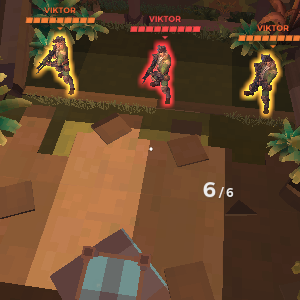model: (143, 41, 172, 106), (48, 32, 72, 97), (251, 50, 272, 119)
